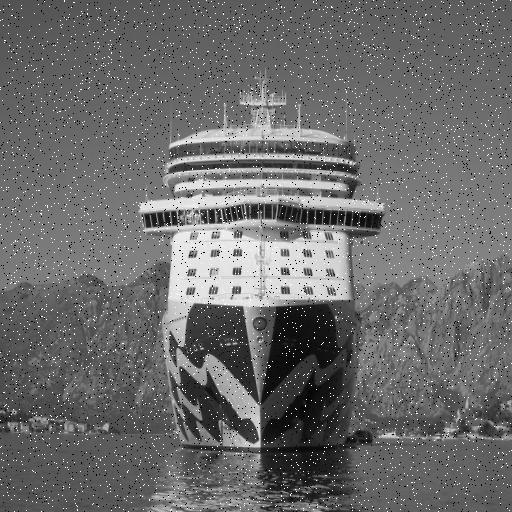cruises: (130, 61, 388, 460)
